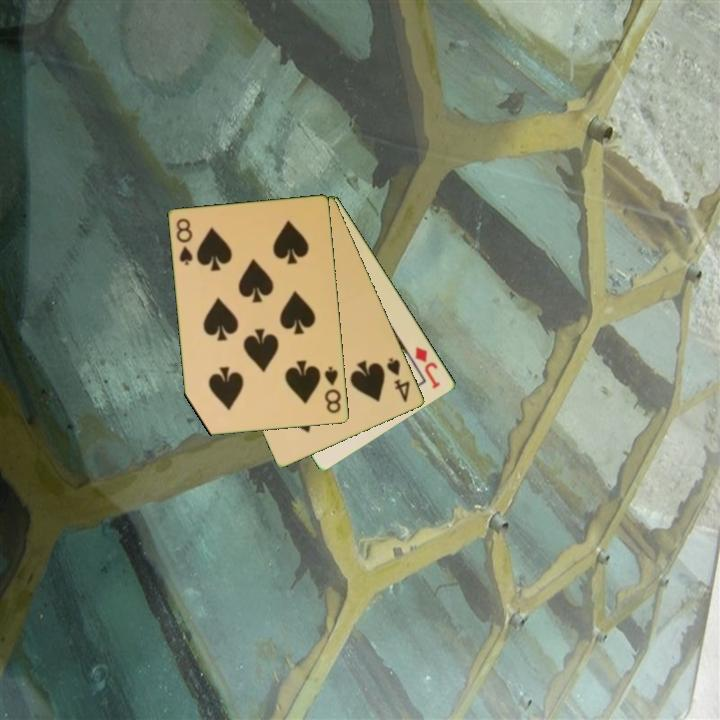4s: (383, 354, 413, 406)
8s: (321, 363, 344, 417), (173, 215, 196, 268)
Jd: (412, 343, 444, 392)
